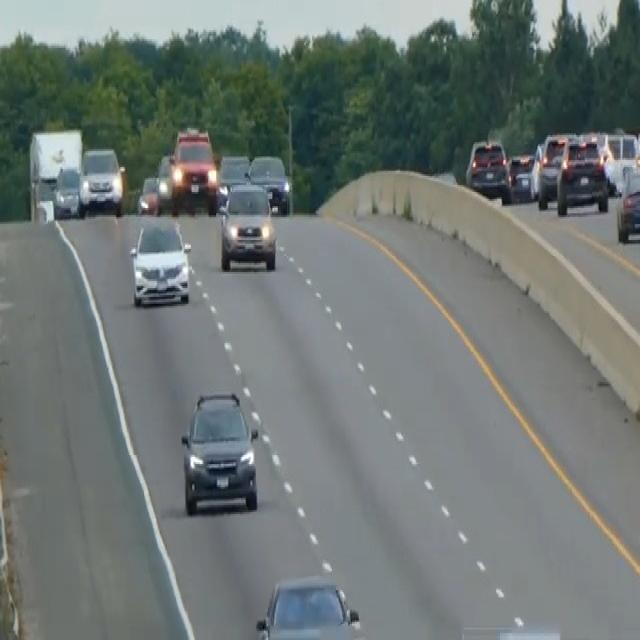car: (179, 388, 260, 516), (254, 572, 364, 638), (128, 217, 192, 307), (555, 135, 609, 215), (79, 144, 125, 215), (465, 135, 511, 203), (536, 130, 575, 208), (247, 153, 290, 215), (602, 130, 639, 194), (215, 151, 250, 208), (615, 166, 639, 243), (52, 164, 82, 218), (508, 149, 538, 201), (155, 153, 175, 208), (136, 174, 160, 215)
jeep: (217, 181, 277, 272), (169, 124, 219, 213)
lorry: (27, 126, 83, 222)
